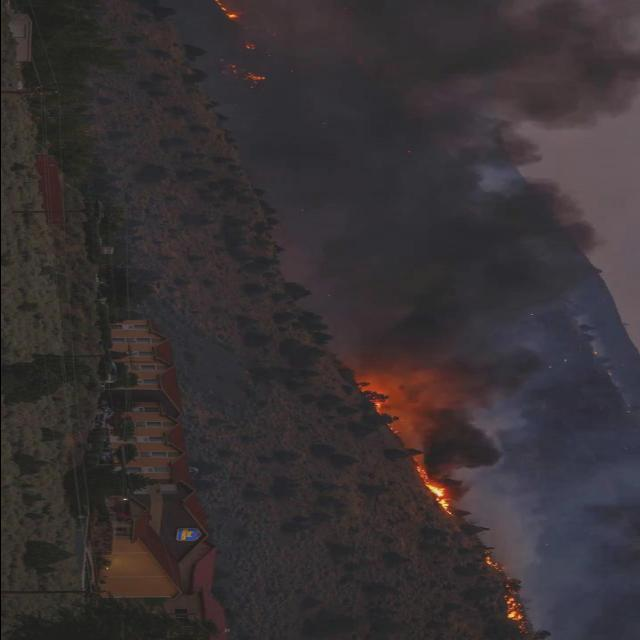Fire: (414, 466, 455, 516), (505, 595, 528, 622), (214, 2, 237, 18), (240, 70, 268, 82), (484, 556, 502, 572), (372, 402, 384, 412)
